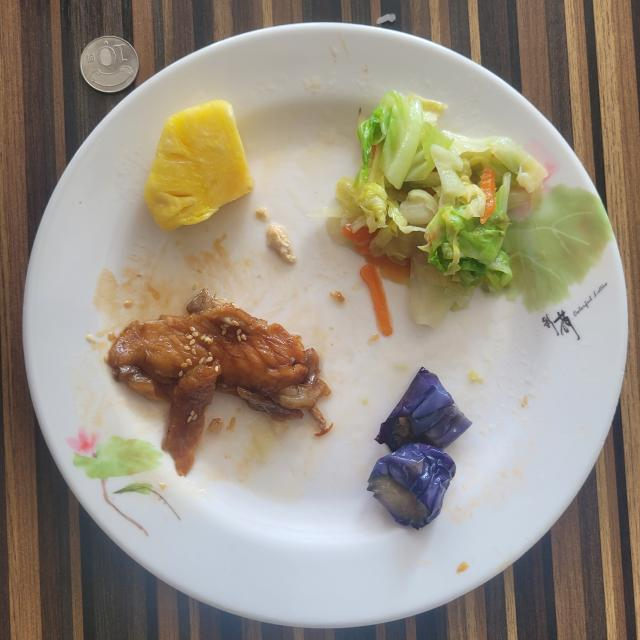Kabayaki sea bream fillet: (106, 289, 330, 475)
cabbage: (319, 91, 548, 335)
coin: (80, 36, 139, 92)
pineapple: (146, 100, 254, 230)
